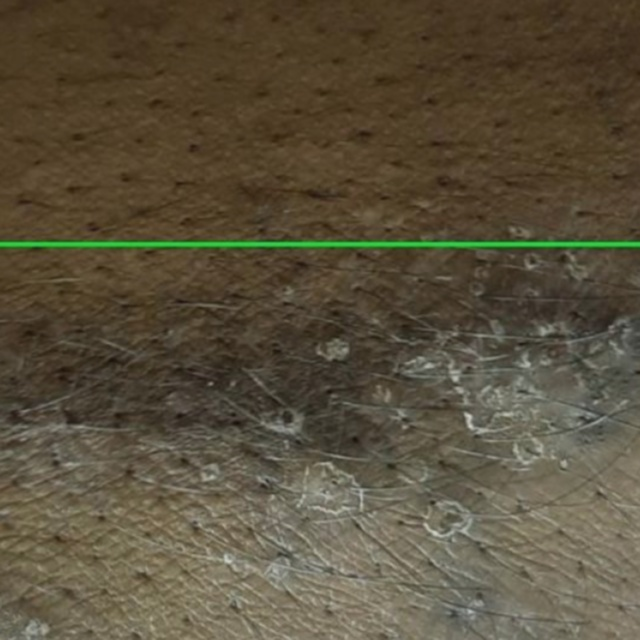Eczema: (0, 244, 639, 639)
